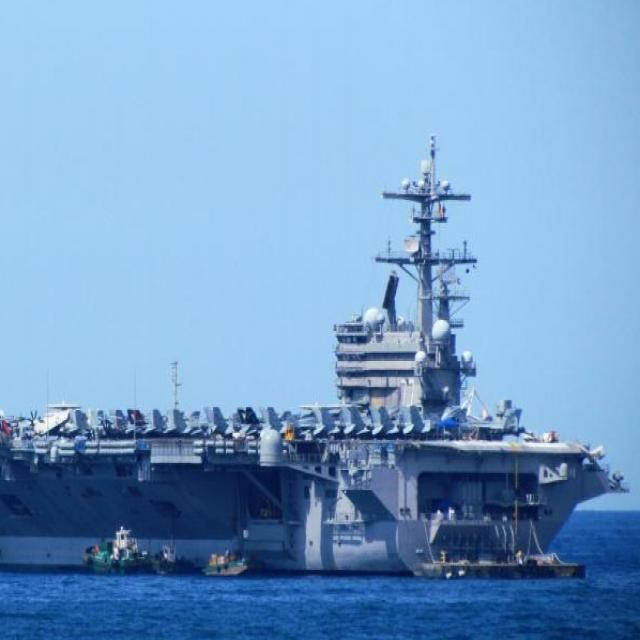Portanaves: (1, 142, 630, 590)
